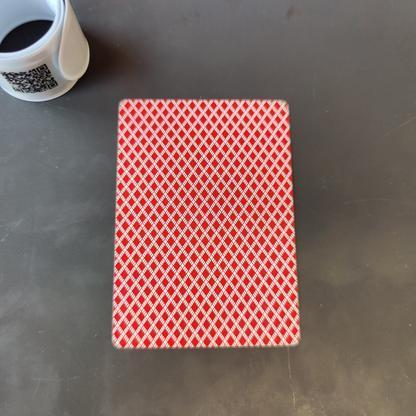card: (103, 90, 313, 360)
